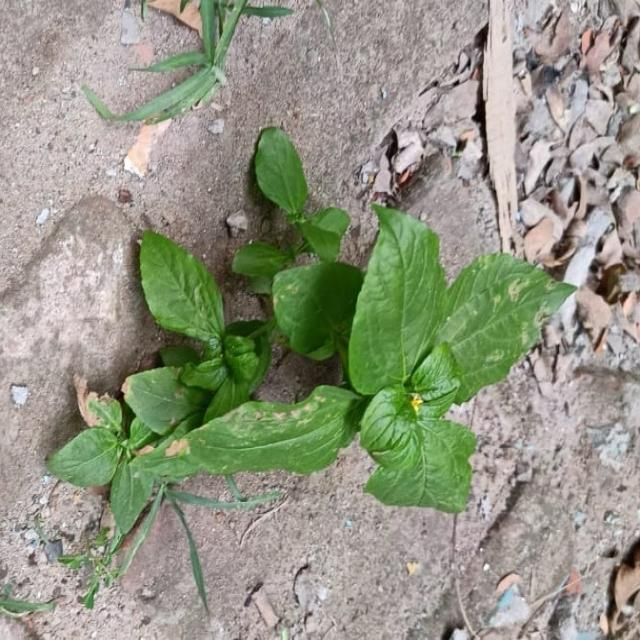weed: (50, 128, 575, 534)
